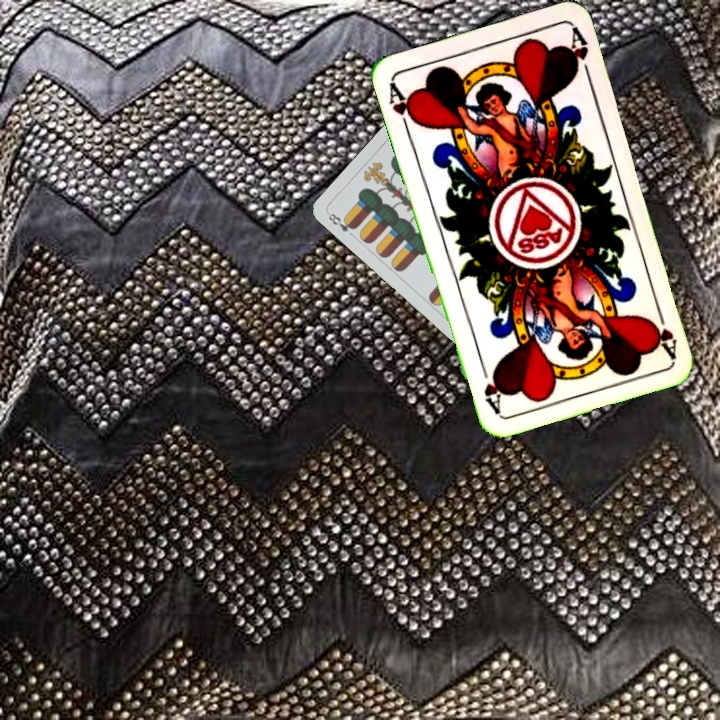E8: (324, 209, 359, 235)
HA: (385, 79, 421, 137), (646, 301, 680, 360)
